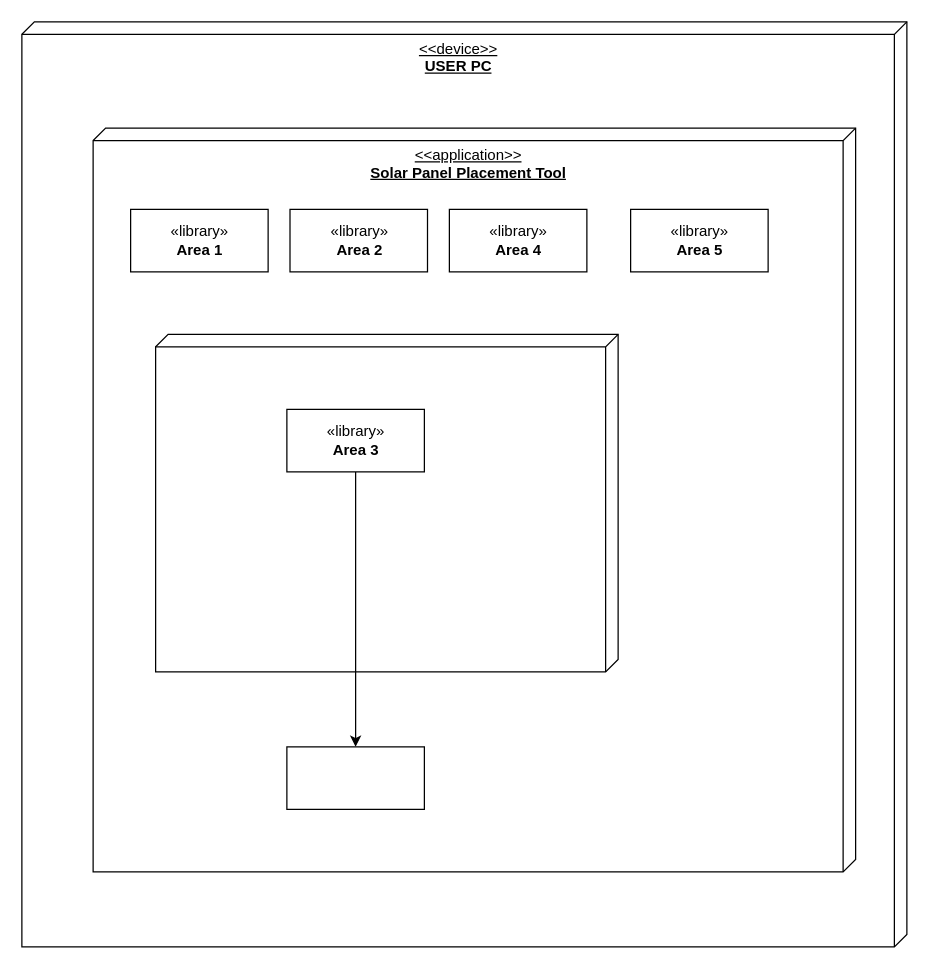
Image size: 929x969. Some labels were removed from this diagram. The box of each missing label's shape, as (x1, y1, x2, y2) in pixels:
<<execution Environment>> Python: (154, 333, 618, 672)
«artifact» roof.json: (286, 746, 424, 809)
